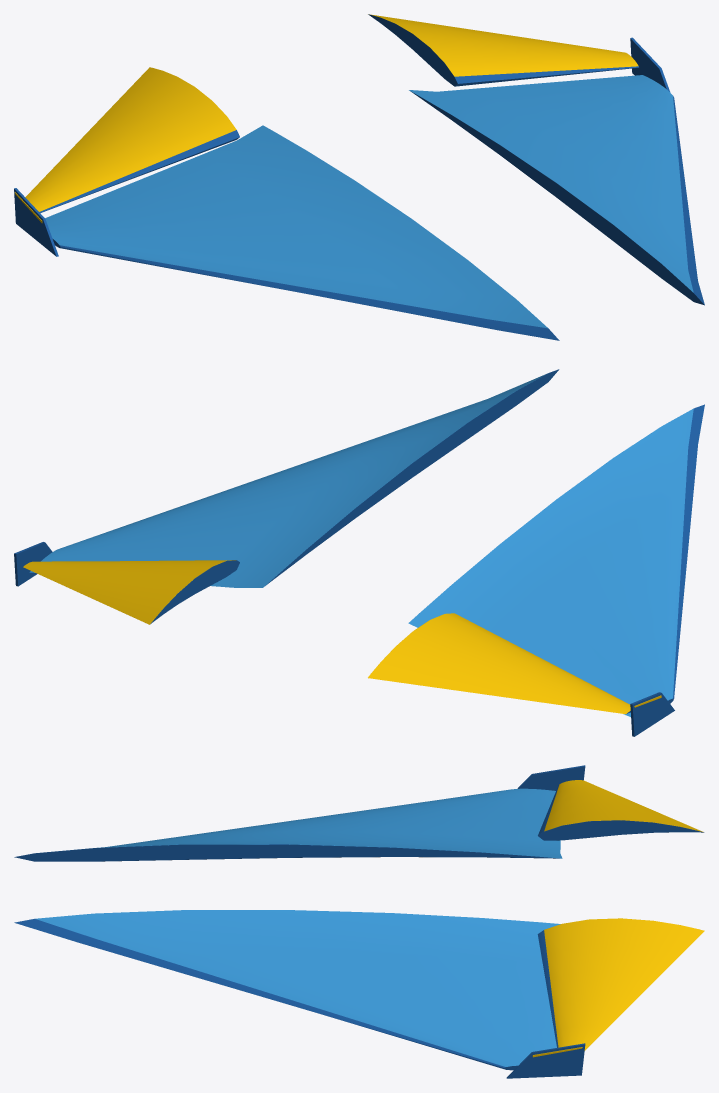
Rendered from strix_wing_ep.fbx.
3 views of the same model, one above another, from view 1: azimuth 30°, elevation 25°; view 2: azimuth 150°, elevation 25°; view 3: azimuth 270°, elevation 25° (orthographic). The views are drawn at different scales.
Parts seen in each view (by area): view 1: Wing_Slotted_L, Wing_Slotted_R; view 2: Wing_Slotted_L, Wing_Slotted_R; view 3: Wing_Slotted_R, Wing_Slotted_L.
Boxes of the visible parts, x1,y1,x2,y2 form: Wing_Slotted_L: [14, 67, 559, 340]; Wing_Slotted_R: [368, 14, 704, 305]; Wing_Slotted_L: [368, 404, 704, 736]; Wing_Slotted_R: [14, 369, 559, 624]; Wing_Slotted_R: [14, 910, 704, 1078]; Wing_Slotted_L: [14, 765, 704, 861].
Bounding box in the file's own units: 359 × 41.87 × 375.
